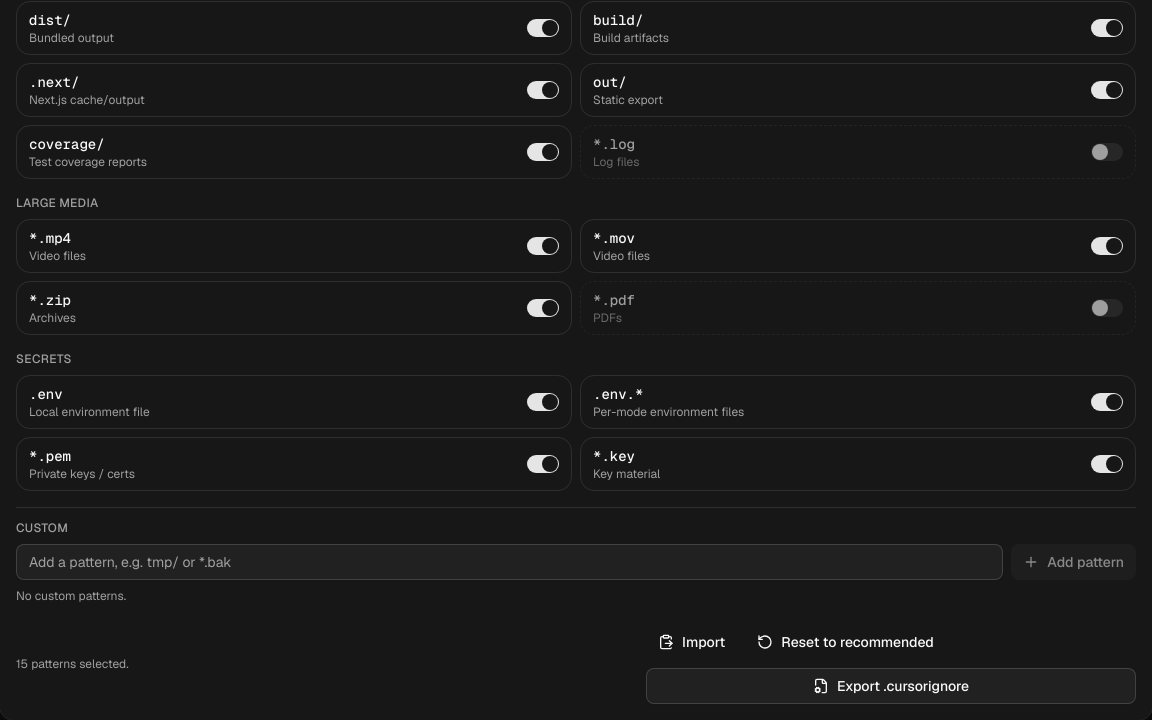
Scenario: adding a custom .cursorignore pattern shows a chip and bumps the count
(page scrolled)
Expected: the text "No custom patterns." is shown, [16,588,126,604]
Type "tmp/" into the field with placeholder "Add a pattern, e.g. tmp/ or *.bak" at (510, 562), box [16,544,1003,580]
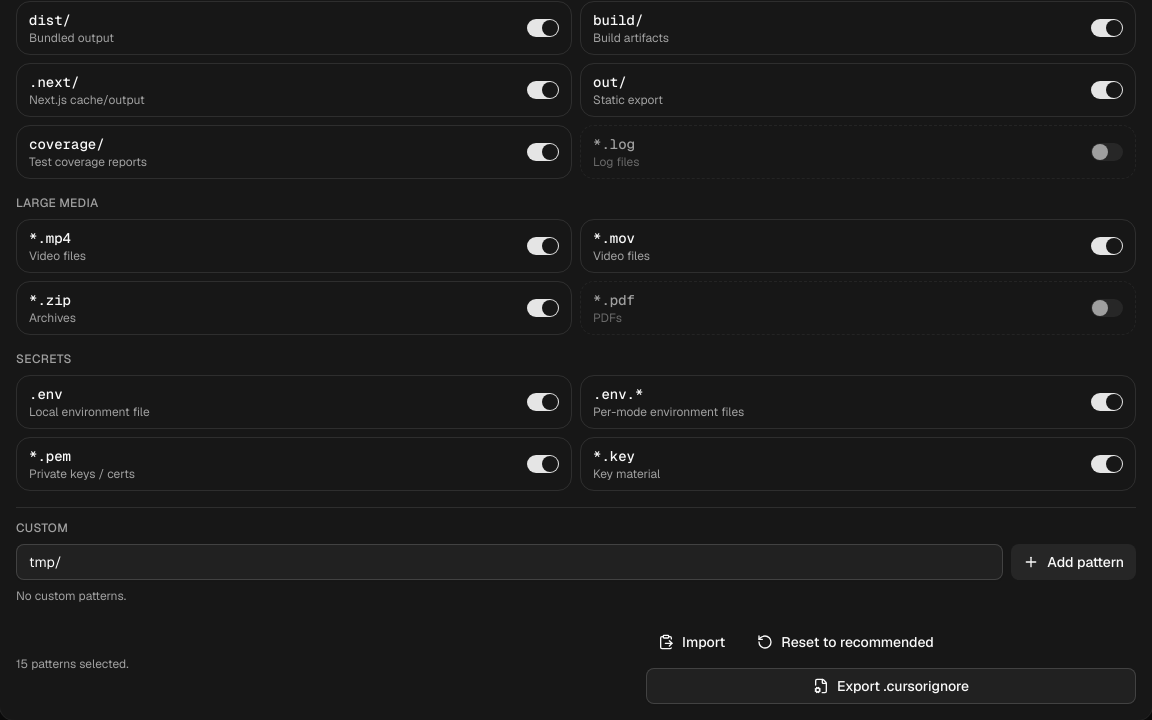
Click the button "Add pattern" at (1074, 562), box [1011,544,1136,580]
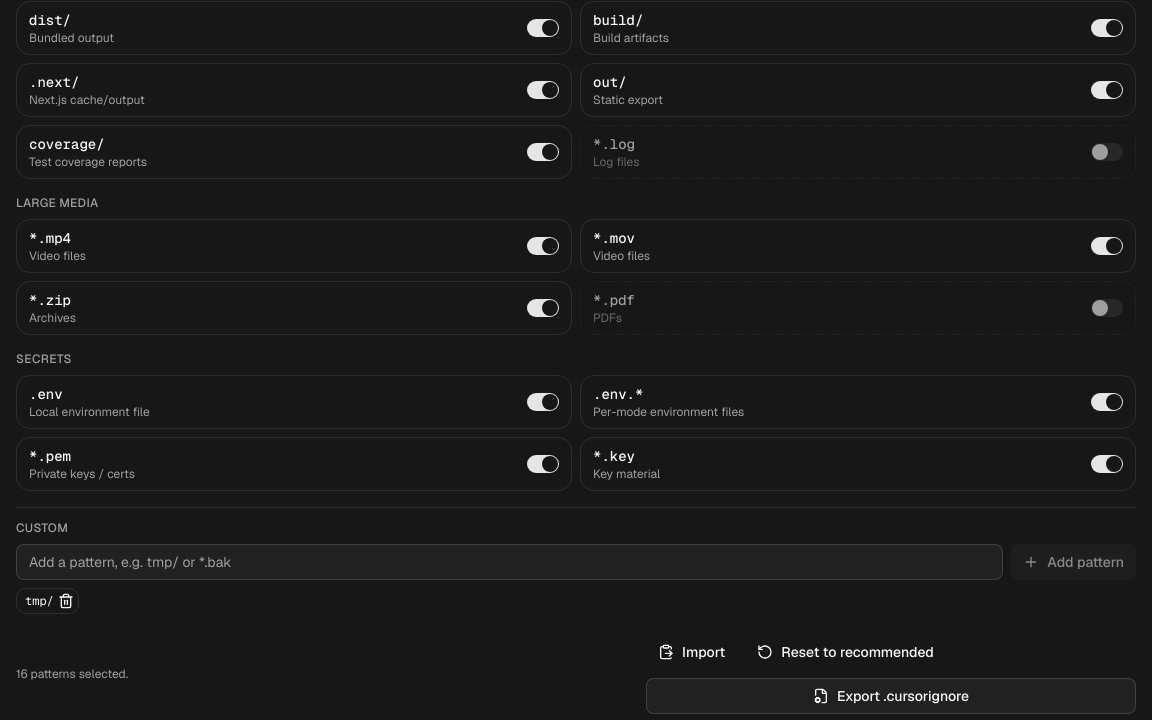
Expected: the text "tmp/" is shown, [25,593,54,609]
Expected: the button named "Remove tmp/" is shown, [58,593,74,609]
